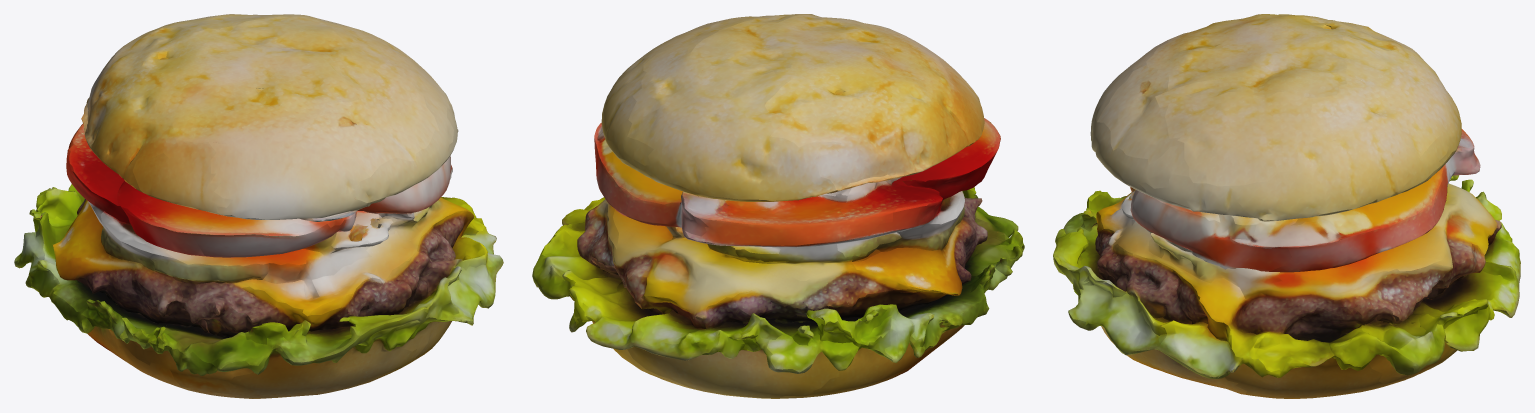
File: item-3d-58c316cd-77ea-49eb-b9cd-9c58cd462b9a.glb
The picture shows the model from 3 angles, left to right: view 1: azimuth 30°, elevation 25°; view 2: azimuth 150°, elevation 25°; view 3: azimuth 270°, elevation 25°; orthographic projection. The views are drawn at different scales.
Visible parts, largest first — view 1: world; view 2: world; view 3: world.
Boxes of the visible parts, left/top/right/bottom form: world: left=14, top=14, right=503, bottom=398; world: left=532, top=14, right=1024, bottom=398; world: left=1053, top=14, right=1520, bottom=398.
Bounding box in the file's own units: 0.9778 × 0.6541 × 0.9978.
1 material, 1 textured.
